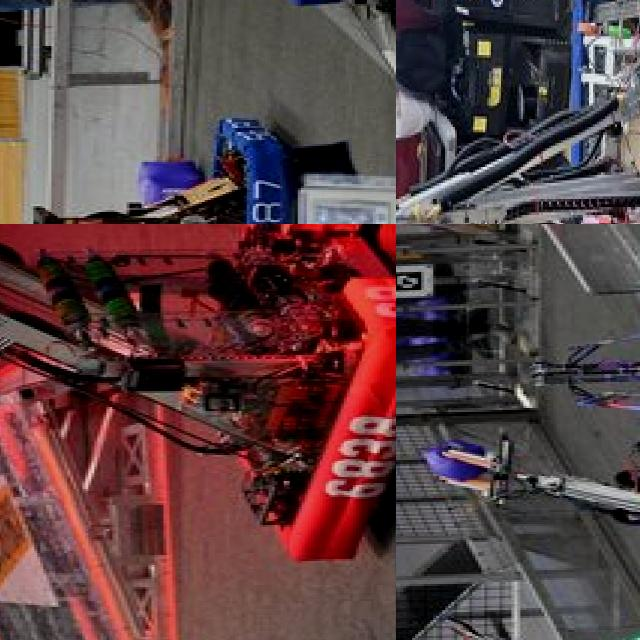FRC-Robots: (0, 224, 396, 515), (396, 0, 640, 224), (0, 105, 288, 224), (442, 429, 640, 559), (523, 253, 640, 417), (435, 581, 640, 640)
